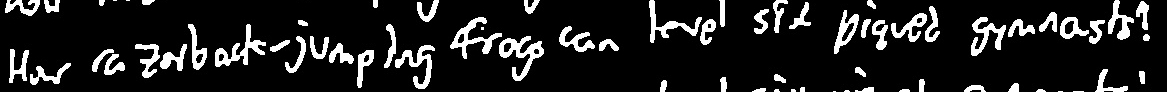How razorback-jumping frogs can level six piqued gymnasts!: (0, 0, 1167, 92)
